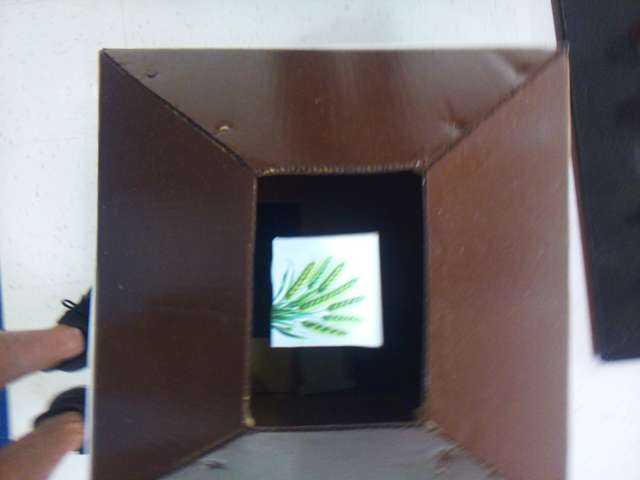wheat_barn: (272, 238, 381, 345)
